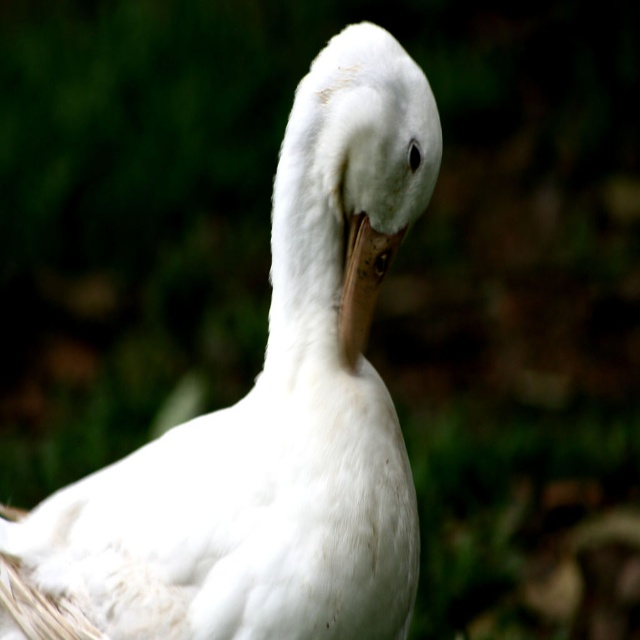Goose: (0, 12, 446, 639)
